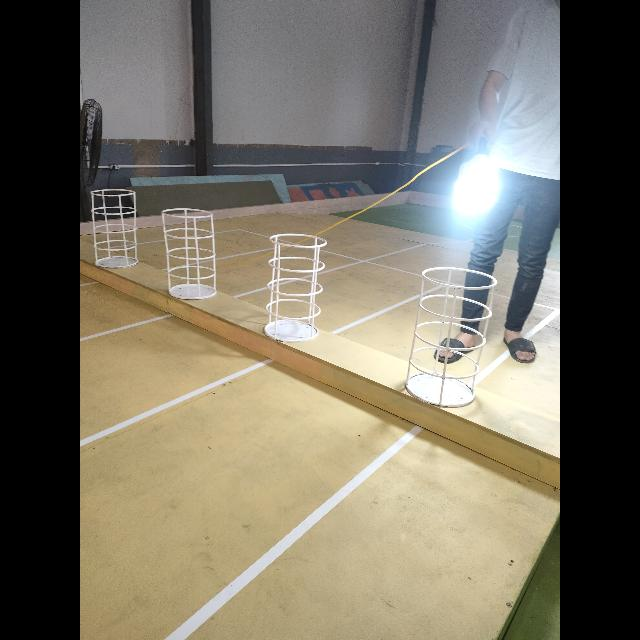S: (404, 266, 498, 409), (264, 231, 328, 343), (160, 208, 220, 300), (91, 188, 141, 268)
